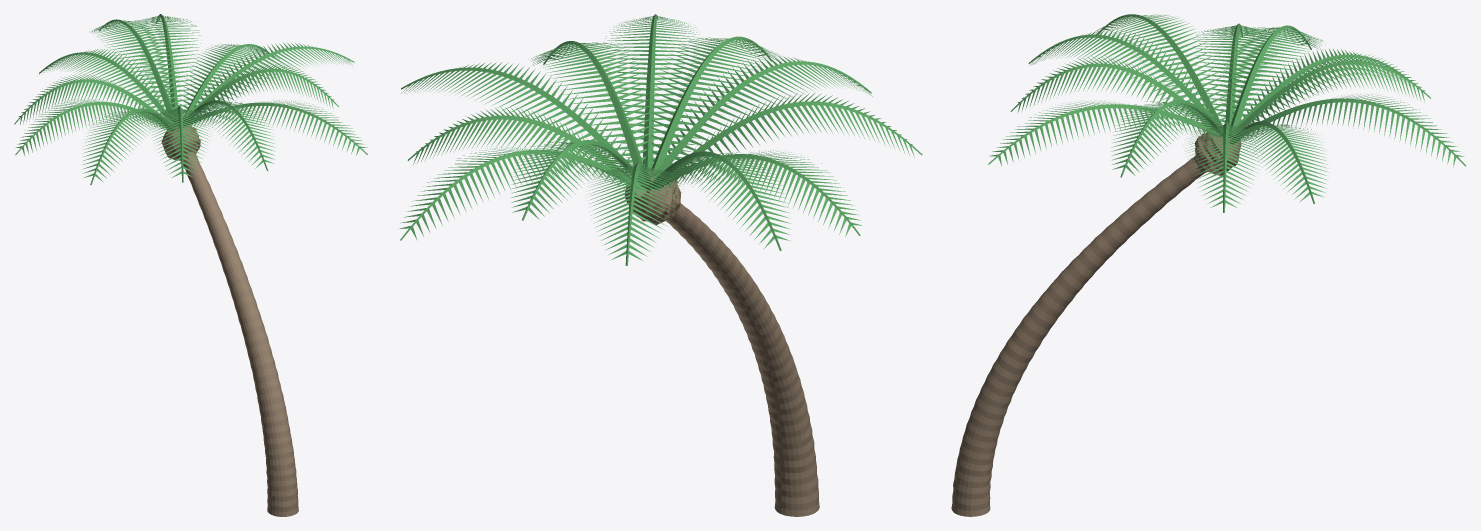
3 views of the same model, side by side, from view 1: azimuth 30°, elevation 25°; view 2: azimuth 150°, elevation 25°; view 3: azimuth 270°, elevation 25° (orthographic). The views are drawn at different scales.
Parts seen in each view (by area): view 1: fronds, trunk, crown_base; view 2: fronds, trunk, crown_base; view 3: fronds, trunk, crown_base.
Boxes of the visible parts, box(x1,y1,x2,y2) form: fronds: box(14, 14, 367, 185); trunk: box(183, 156, 298, 516); crown_base: box(161, 124, 200, 161); fronds: box(399, 14, 922, 265); trunk: box(666, 203, 819, 516); crown_base: box(625, 173, 681, 224); fronds: box(988, 14, 1465, 212); trunk: box(951, 159, 1203, 516); crown_base: box(1191, 131, 1241, 175).
Bounding box in the file's own units: 14.82 × 15.77 × 16.36.
